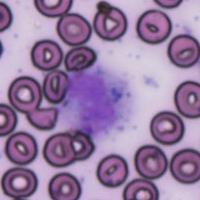M: (57, 62, 138, 140)
